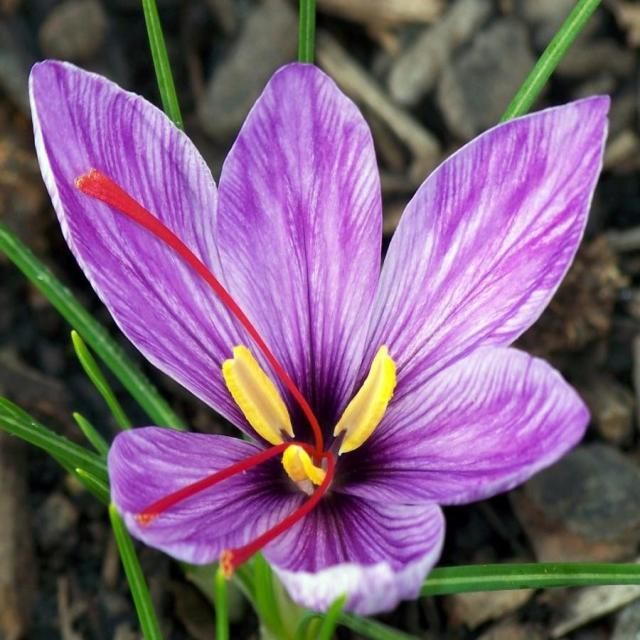Flower: (27, 48, 609, 614)
stigma: (68, 136, 329, 445), (213, 453, 358, 579), (116, 448, 286, 530)
